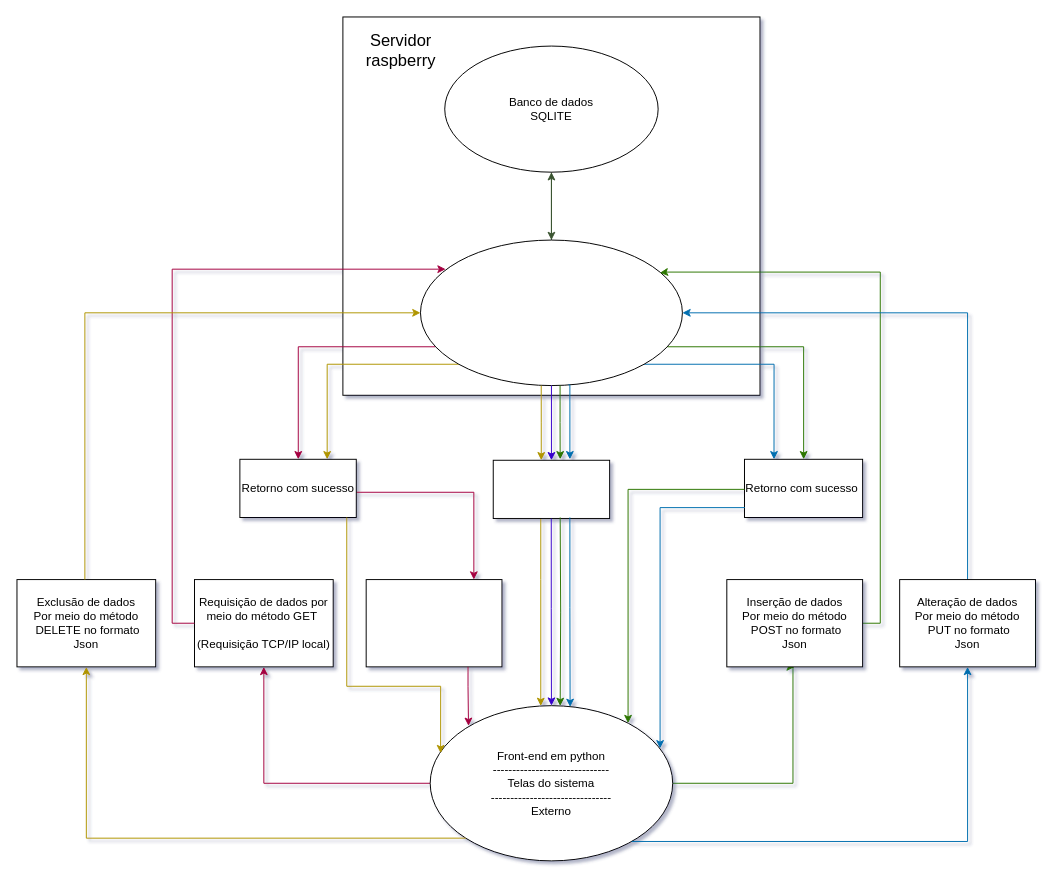
Image size: 1058x884. Some labels were removed from this diagram. Here are the shapes that lost their labels. From the top down, the centre of each, then its label:
point 551,312: API de comunicação com o banco em C (.EXE)
point 551,488: Retorno com erro
point 433,623: Retorno da requisição no formato Json com as informações solicitadas
